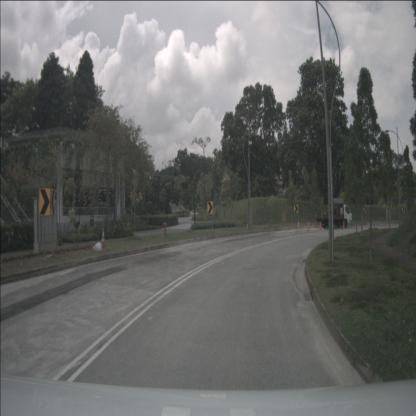movable_object-trafficcone: (100, 228, 107, 250), (306, 221, 310, 231), (318, 221, 322, 230), (342, 220, 345, 230), (297, 221, 300, 230)
vehicle-truck: (315, 204, 350, 229)
